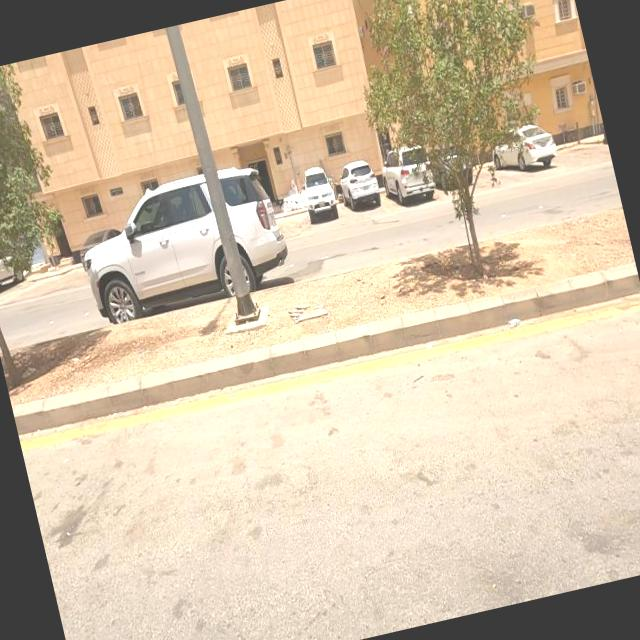debris: (243, 250, 391, 380), (472, 280, 554, 364)
